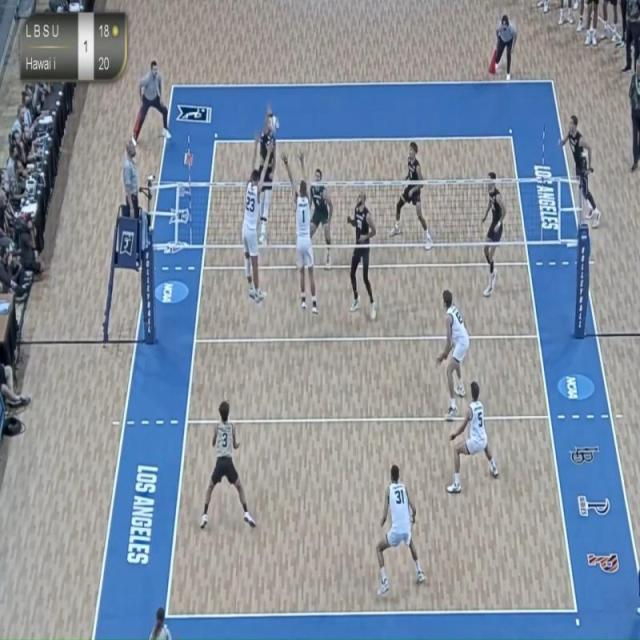volleyball: (266, 112, 280, 137)
